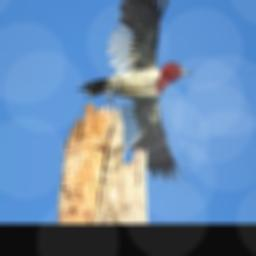Woodpecker: (75, 0, 193, 183)
